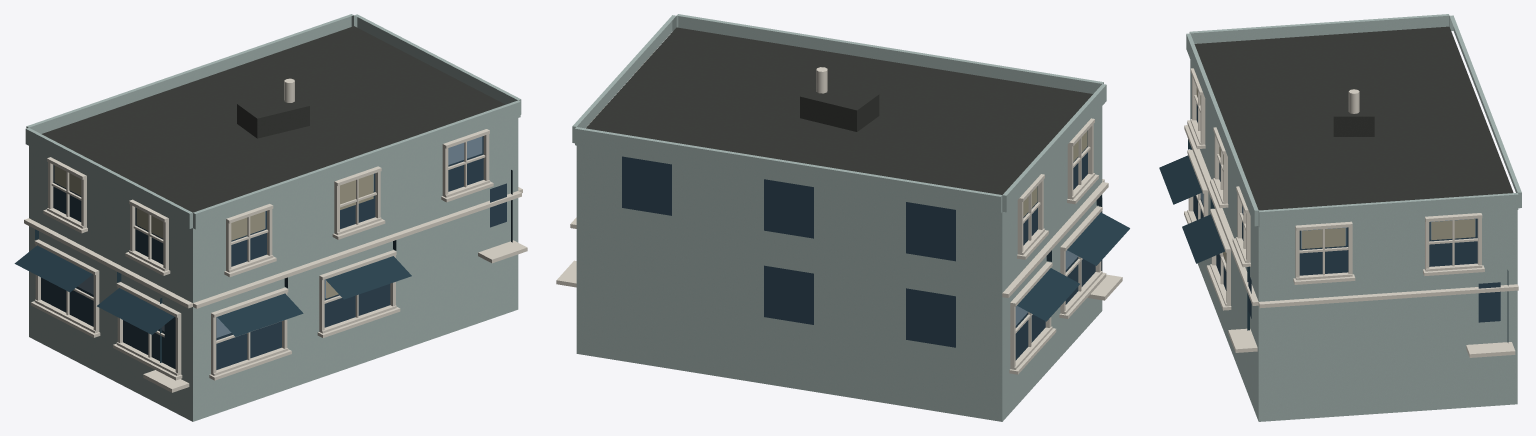
3 views of the same model, side by side, from view 1: azimuth 30°, elevation 25°; view 2: azimuth 150°, elevation 25°; view 3: azimuth 270°, elevation 25° (orthographic). The views are drawn at different scales.
Visible parts, largest first — view 1: Footprint 0 / surface 2, Footprint 0 / surface 1, Cornices and window frames, Facade bay volumes, Inset glazing, Storefronts and doors, Interior blind variation, Inferred rooftop service enclosure / surface 5, Sky reflection panels, Inferred rooftop service enclosure / surface 3; view 2: Footprint 0 / surface 2, Footprint 0 / surface 1, Facade bay volumes, Inset glazing, Cornices and window frames, Storefronts and doors, Inferred rooftop service enclosure / surface 6, Inferred rooftop service enclosure / surface 3; view 3: Footprint 0 / surface 2, Footprint 0 / surface 1, Cornices and window frames, Facade bay volumes, Inset glazing, Storefronts and doors, Interior blind variation, Inferred rooftop service enclosure / surface 3, Inferred rooftop service enclosure / surface 1.
Part boxes in pixels (left/top/right/bottom): Footprint 0 / surface 2: left=29, top=118, right=518, bottom=421; Footprint 0 / surface 1: left=41, top=26, right=505, bottom=212; Cornices and window frames: left=24, top=129, right=527, bottom=392; Facade bay volumes: left=25, top=14, right=521, bottom=229; Inset glazing: left=41, top=136, right=506, bottom=369; Storefronts and doors: left=14, top=170, right=512, bottom=362; Interior blind variation: left=54, top=166, right=373, bottom=298; Inferred rooftop service enclosure / surface 5: left=257, top=106, right=309, bottom=138; Sky reflection panels: left=54, top=136, right=482, bottom=337; Inferred rooftop service enclosure / surface 3: left=237, top=92, right=309, bottom=118; Footprint 0 / surface 2: left=576, top=106, right=1102, bottom=421; Footprint 0 / surface 1: left=586, top=27, right=1092, bottom=194; Facade bay volumes: left=572, top=14, right=1106, bottom=213; Inset glazing: left=622, top=130, right=1095, bottom=360; Cornices and window frames: left=556, top=49, right=1122, bottom=374; Storefronts and doors: left=1017, top=195, right=1129, bottom=321; Inferred rooftop service enclosure / surface 6: left=800, top=96, right=856, bottom=131; Inferred rooftop service enclosure / surface 3: left=800, top=82, right=878, bottom=110; Footprint 0 / surface 2: left=1190, top=60, right=1517, bottom=421; Footprint 0 / surface 1: left=1194, top=26, right=1513, bottom=210; Cornices and window frames: left=1184, top=68, right=1518, bottom=357; Facade bay volumes: left=1186, top=14, right=1521, bottom=227; Inset glazing: left=1193, top=96, right=1500, bottom=322; Storefronts and doors: left=1159, top=139, right=1508, bottom=342; Interior blind variation: left=1196, top=88, right=1475, bottom=262; Inferred rooftop service enclosure / surface 3: left=1333, top=90, right=1374, bottom=116; Inferred rooftop service enclosure / surface 1: left=1333, top=116, right=1374, bottom=136.
Size of the model in its own units: 14.57 by 7.76 by 10.59.
